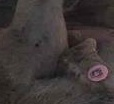text: (85, 62, 110, 85)
